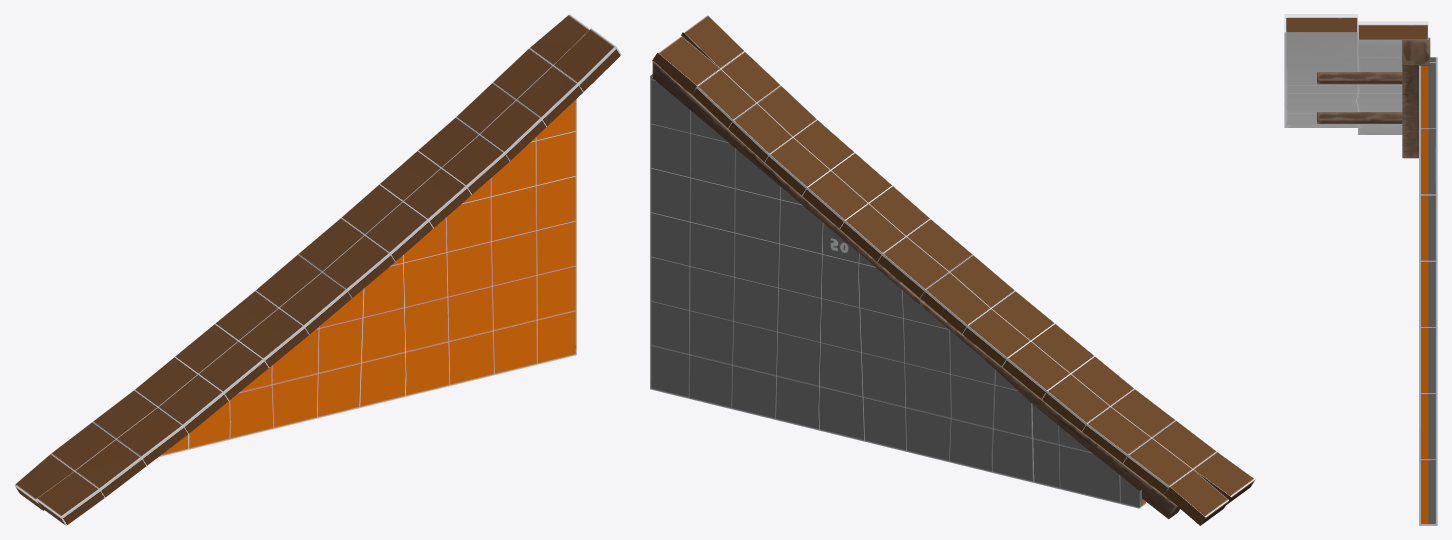
The model's file is Hangar01RE_2.FBX.
The picture shows the model from 3 angles, left to right: view 1: azimuth 30°, elevation 25°; view 2: azimuth 150°, elevation 25°; view 3: azimuth 270°, elevation 25°; orthographic projection. The views are drawn at different scales.
Parts seen in each view (by area): view 1: Hangar01RE_2; view 2: Hangar01RE_2; view 3: Hangar01RE_2.
Boxes of the visible parts, x1,y1,x2,y2 form: Hangar01RE_2: [14, 14, 621, 525]; Hangar01RE_2: [650, 14, 1255, 525]; Hangar01RE_2: [1284, 14, 1437, 525].
Size of what is drawn, in the model's own units: 5.11 by 3.03 by 0.8166.
